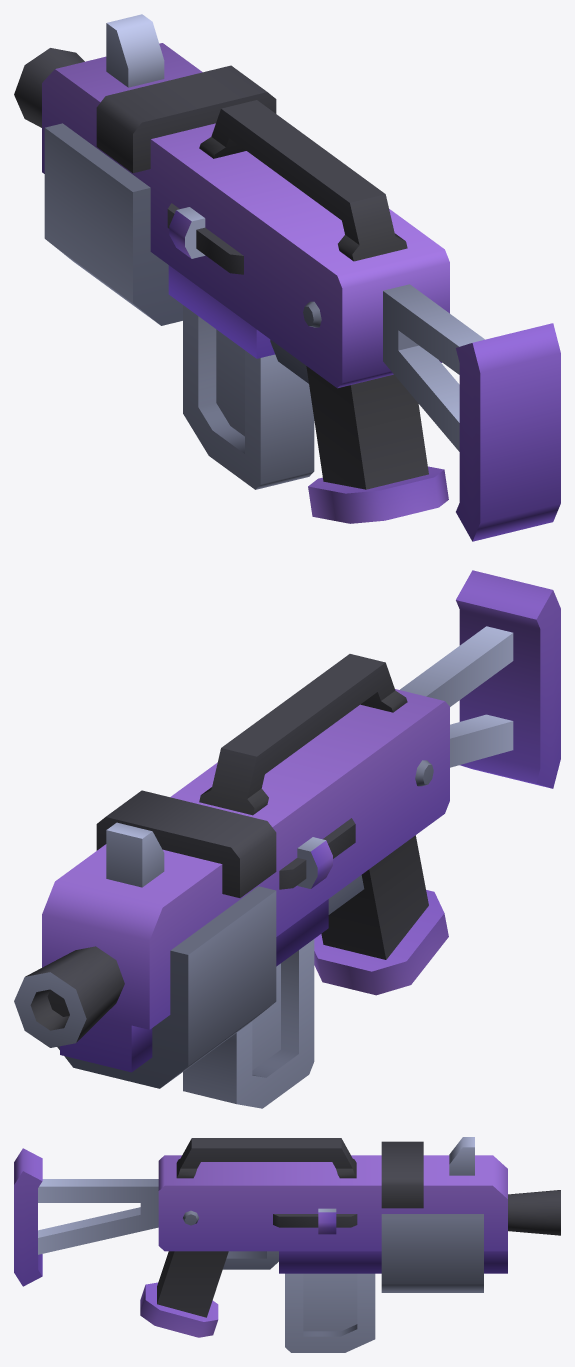
Rendered from rifle.glb.
3 renders of one model, top to bottom at view 1: azimuth 30°, elevation 25°; view 2: azimuth 150°, elevation 25°; view 3: azimuth 270°, elevation 25°, orthographic. The views are drawn at different scales.
Parts seen in each view (by area): view 1: blaster-d, magazine; view 2: blaster-d, magazine; view 3: blaster-d, magazine.
Part boxes in pixels (x1,y1,x2,y2): blaster-d: (14, 14, 560, 541); magazine: (183, 305, 314, 489); blaster-d: (14, 570, 560, 1088); magazine: (183, 939, 314, 1108); blaster-d: (14, 1137, 560, 1337); magazine: (285, 1273, 375, 1352).
Bounding box in the file's own units: 0.165 × 0.3719 × 0.9079.
1 material, 1 textured.
